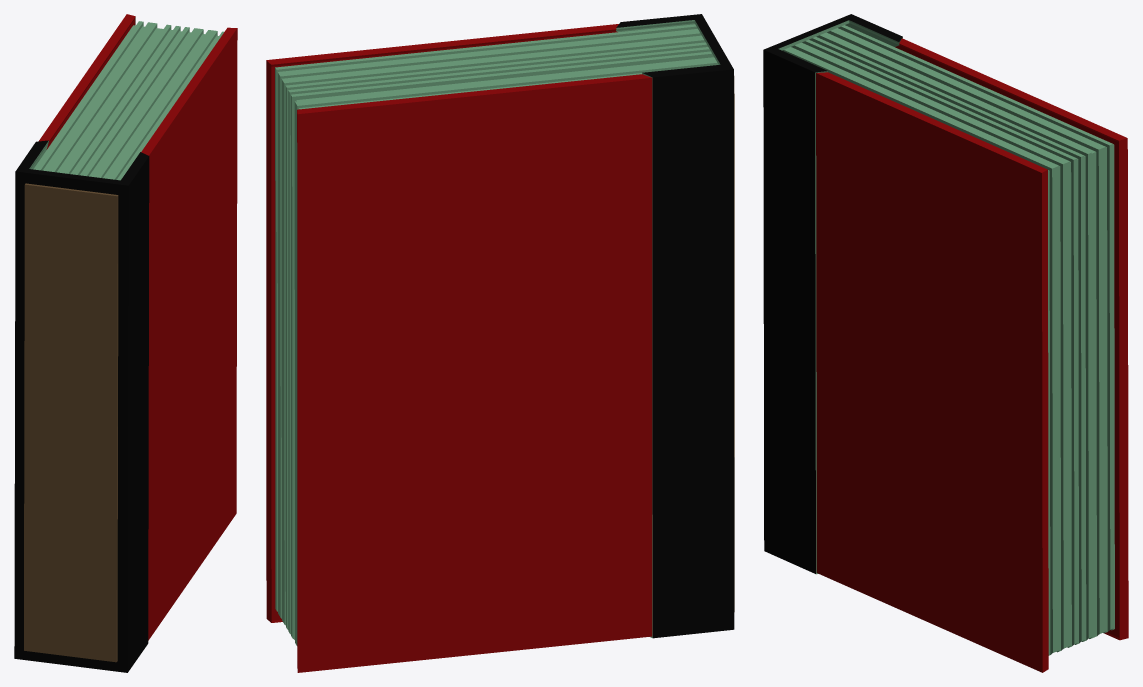
Rendered from SecondShelfBook7.fbx.
3 renders of one model, left to right at view 1: azimuth 30°, elevation 25°; view 2: azimuth 150°, elevation 25°; view 3: azimuth 270°, elevation 25°, orthographic. The views are drawn at different scales.
Parts seen in each view (by area): view 1: Book.013; view 2: Book.013; view 3: Book.013.
Boxes of the visible parts, x1,y1,x2,y2 form: Book.013: [14, 14, 237, 672]; Book.013: [266, 14, 734, 672]; Book.013: [763, 14, 1128, 672].
Size of the model in its own units: 118 by 175 by 115.
